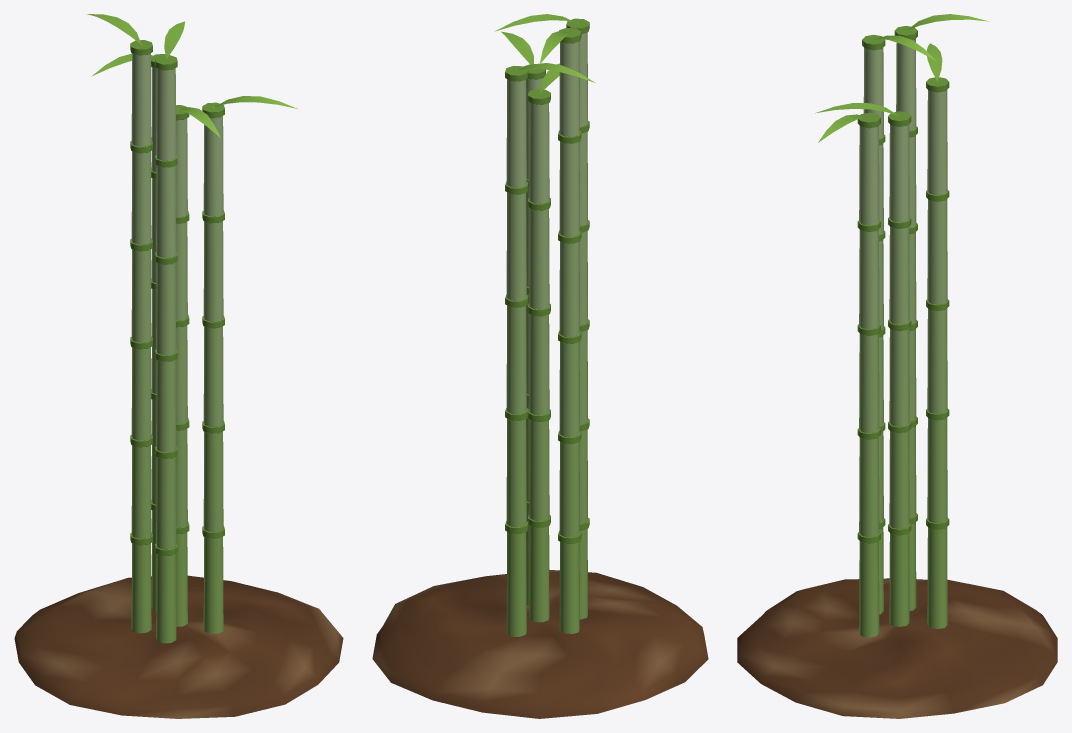
The model's file is plant-bamboo-4.gltf.
The picture shows the model from 3 angles, left to right: view 1: azimuth 30°, elevation 25°; view 2: azimuth 150°, elevation 25°; view 3: azimuth 270°, elevation 25°; orthographic projection. The views are drawn at different scales.
Bounding box in the file's own units: 1.28 × 2.66 × 1.26.
